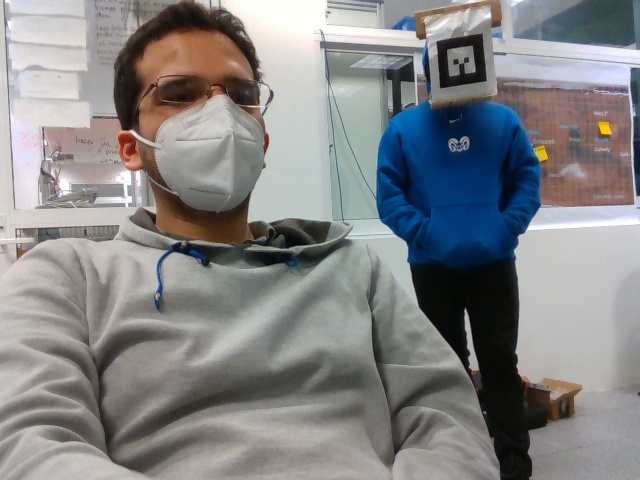ar1: (434, 32, 490, 93)
